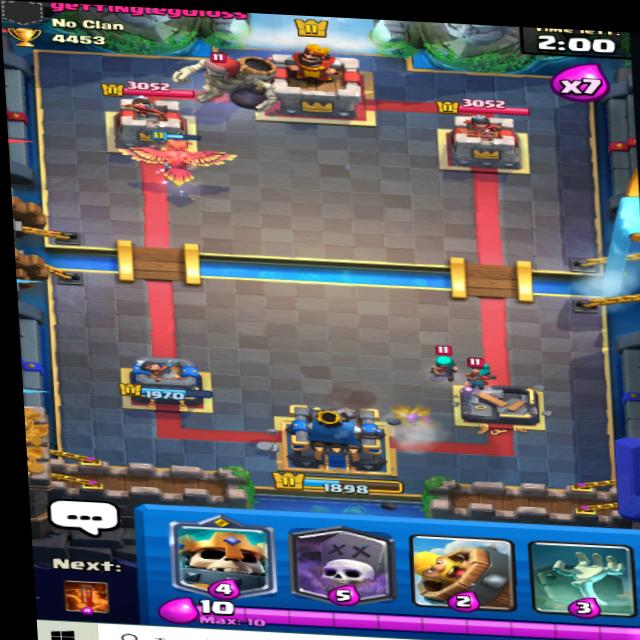giant-skeleton: (167, 47, 280, 112)
rascal-girl: (424, 346, 471, 380), (458, 355, 500, 390)
